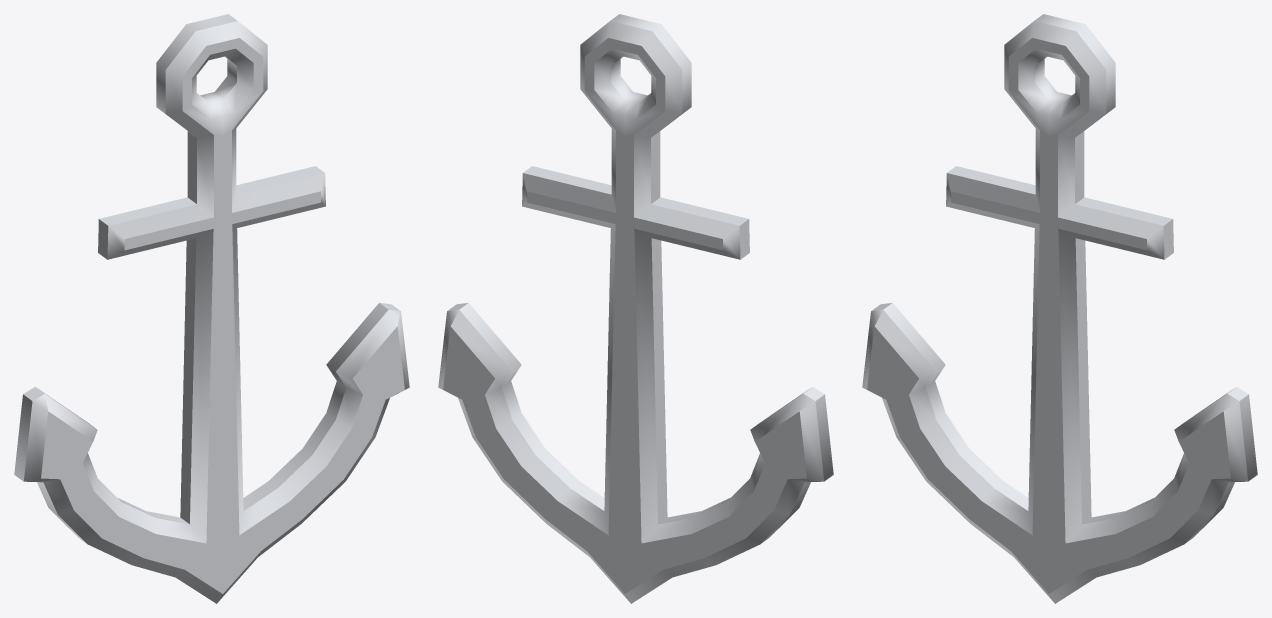
File: Anchor.fbx
3 renders of one model, left to right at view 1: azimuth 30°, elevation 25°; view 2: azimuth 150°, elevation 25°; view 3: azimuth 330°, elevation 25°, orthographic.
Parts seen in each view (by area): view 1: Anchor; view 2: Anchor; view 3: Anchor.
Part boxes in pixels (x1=…): Anchor: x1=14, y1=14, x2=409, y2=603; Anchor: x1=438, y1=14, x2=833, y2=603; Anchor: x1=862, y1=14, x2=1257, y2=603.
Bounding box in the file's own units: 0.9566 × 1.37 × 0.0941.
